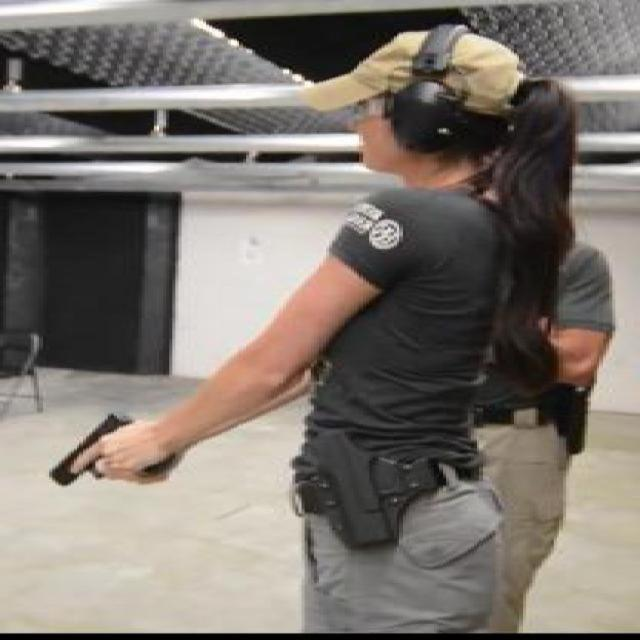weapon: (49, 414, 178, 489)
